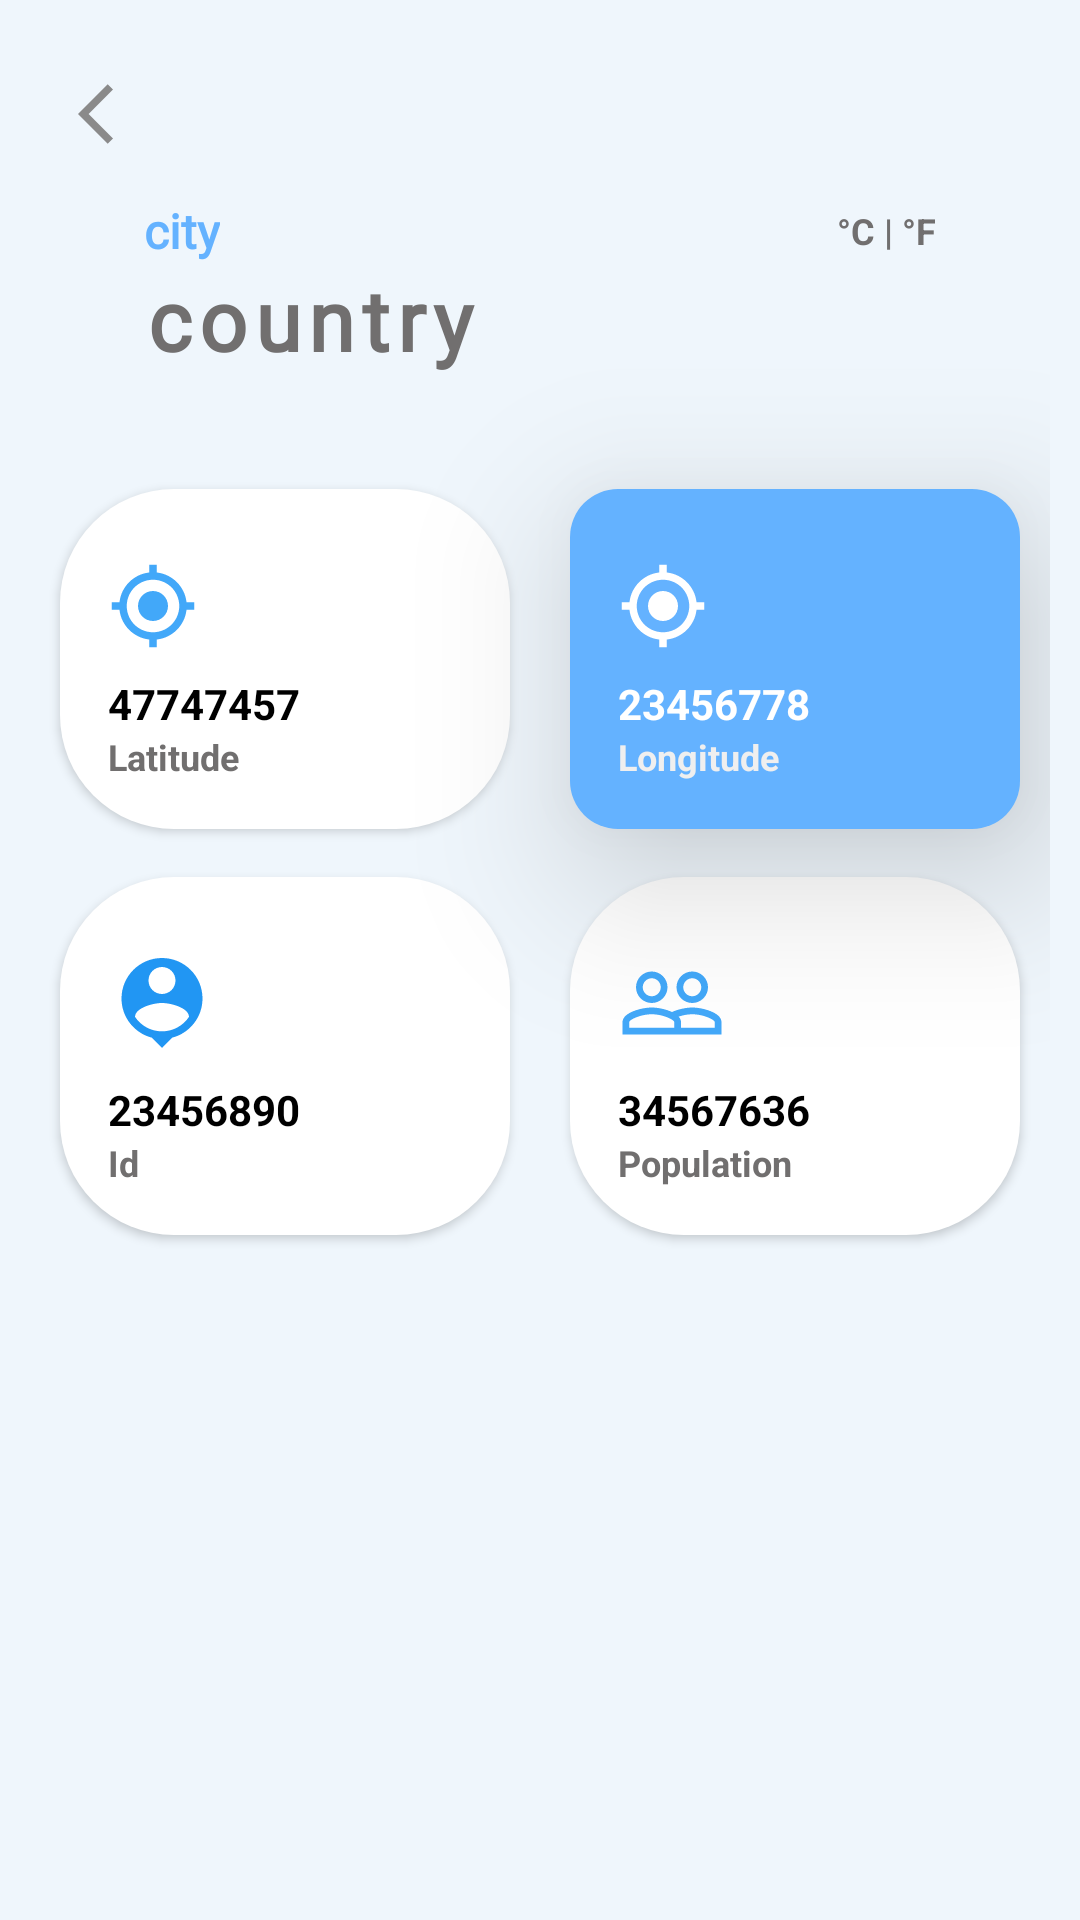

Icons on this 1080x1920 Android screen, each with its box as (x1, y1, x2, y2):
back: (78, 84, 113, 144)
gps fixed: (111, 564, 195, 648)
people: (622, 971, 722, 1035)
person pin: (121, 958, 203, 1048)
